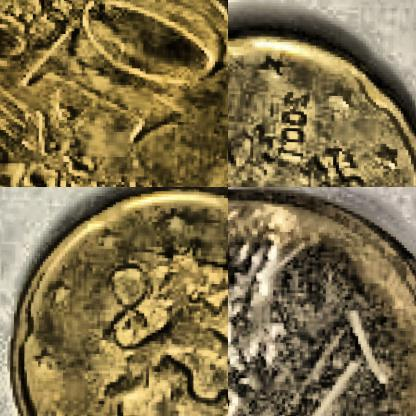coin: (3, 187, 227, 415), (228, 187, 415, 415), (0, 0, 227, 186), (228, 25, 415, 186)
